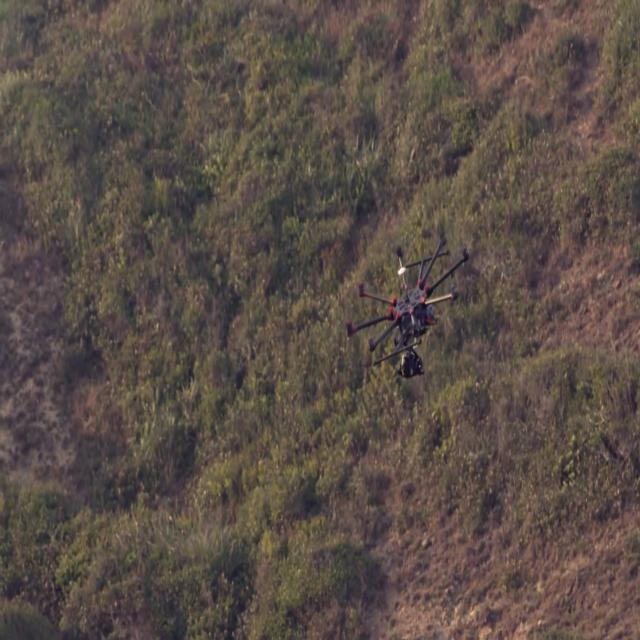drone: (345, 211, 473, 384)
